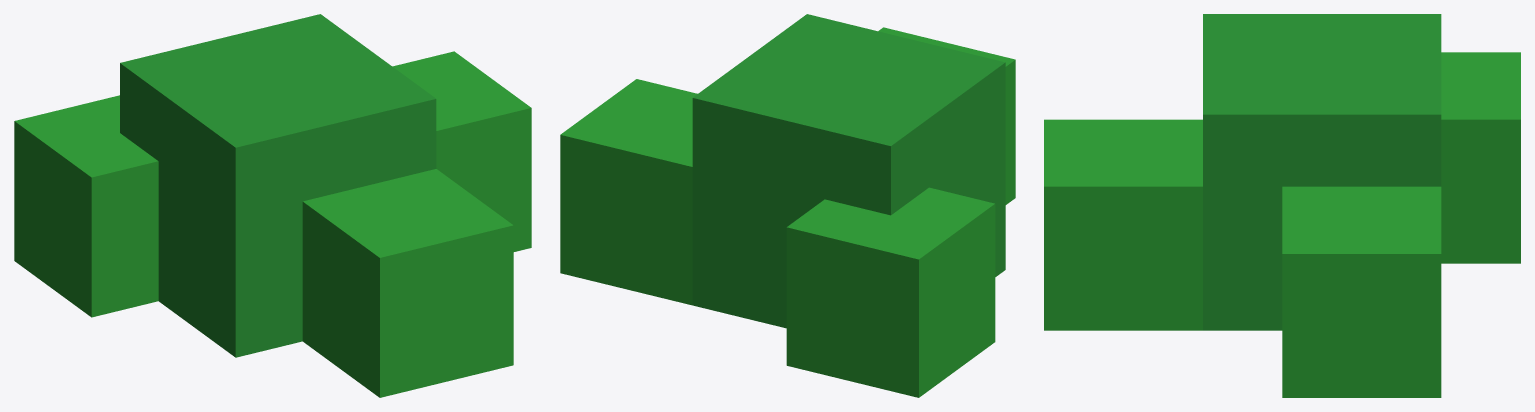
The model's file is Bush-1.obj.
3 renders of one model, left to right at view 1: azimuth 30°, elevation 25°; view 2: azimuth 150°, elevation 25°; view 3: azimuth 270°, elevation 25°, orthographic. The views are drawn at different scales.
Parts seen in each view (by area): view 1: Bush-1; view 2: Bush-1; view 3: Bush-1.
Boxes of the visible parts, left/top/right/bottom form: Bush-1: left=14, top=14, right=531, bottom=397; Bush-1: left=560, top=14, right=1015, bottom=397; Bush-1: left=1044, top=14, right=1520, bottom=397.
Size of the model in its own units: 6 by 3 by 6.
Materials: 1 (1 with a texture image).
